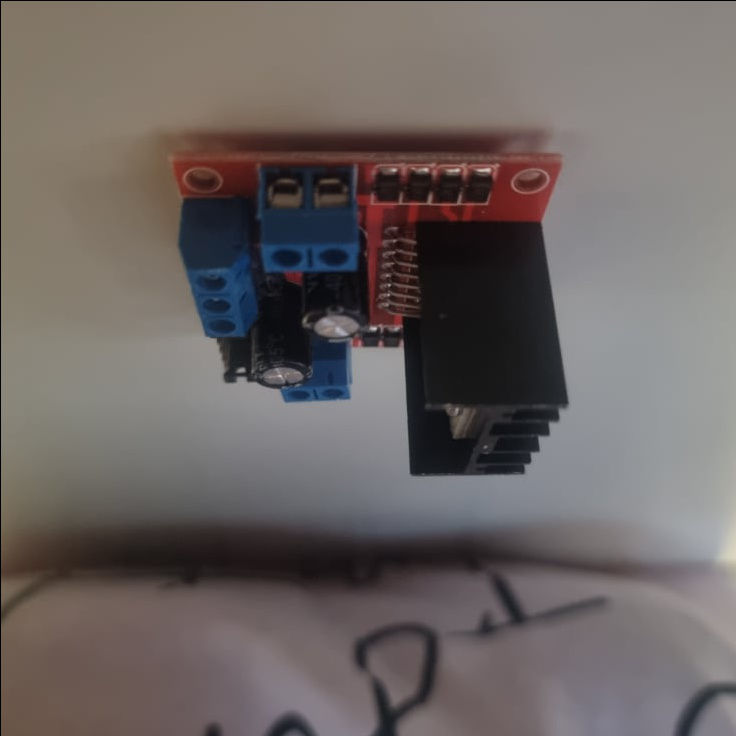MOTOR: (164, 148, 572, 476)
